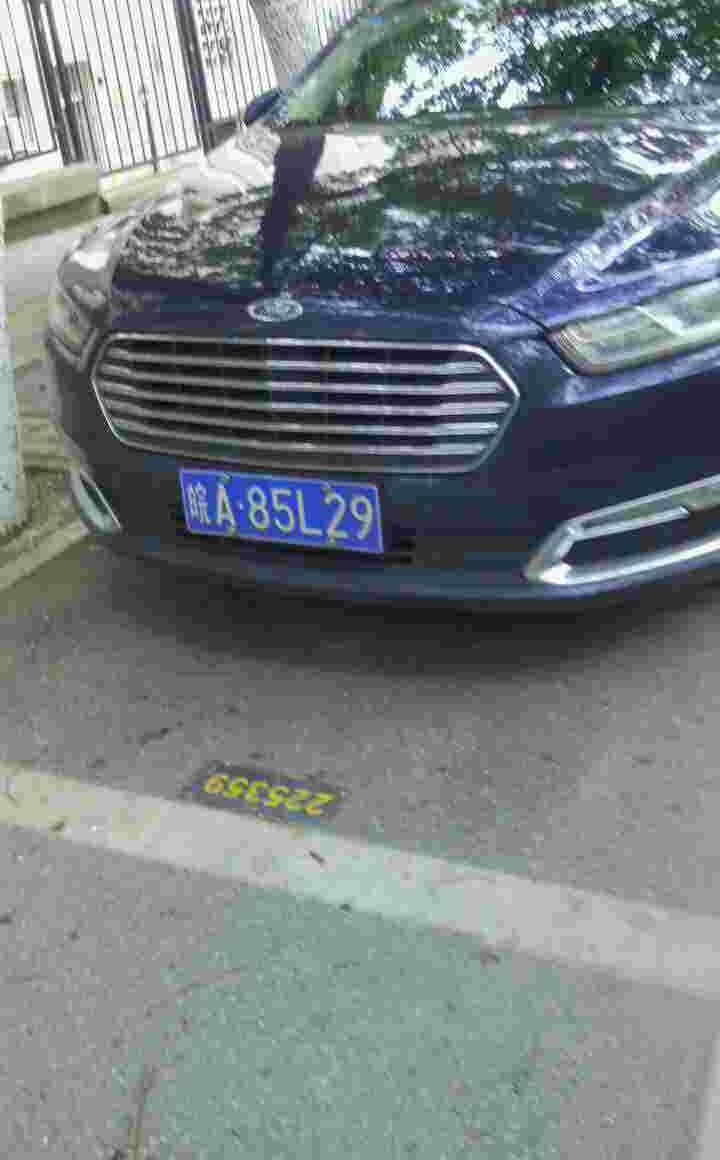car: (177, 466, 388, 561)
